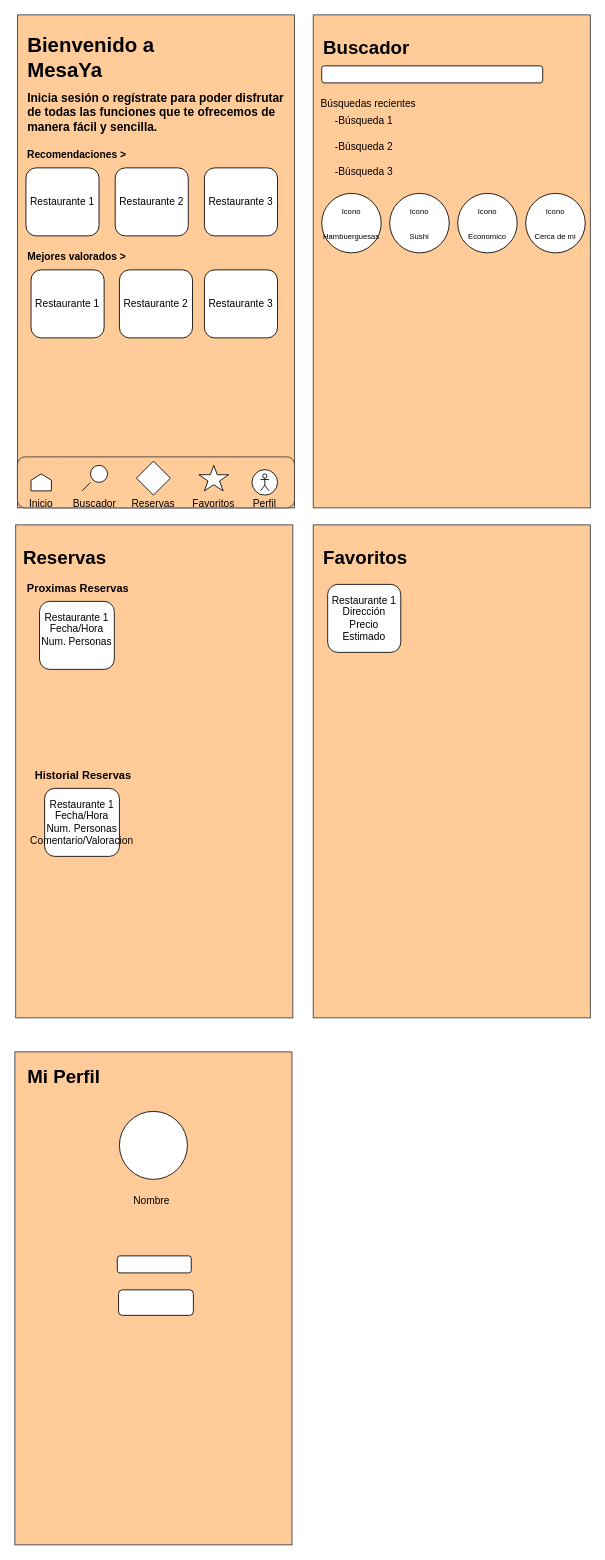
The diagram is 605 pixels wide and 1560 high, and some of its shapes have lost their labels. Each missing label, with the centre of its shape:
"Cerrar sesión" goes at (155,1302).
"Editar Perfil" goes at (153,1264).
"Tipo de comida, nombre de restaurante..." goes at (432,74).
